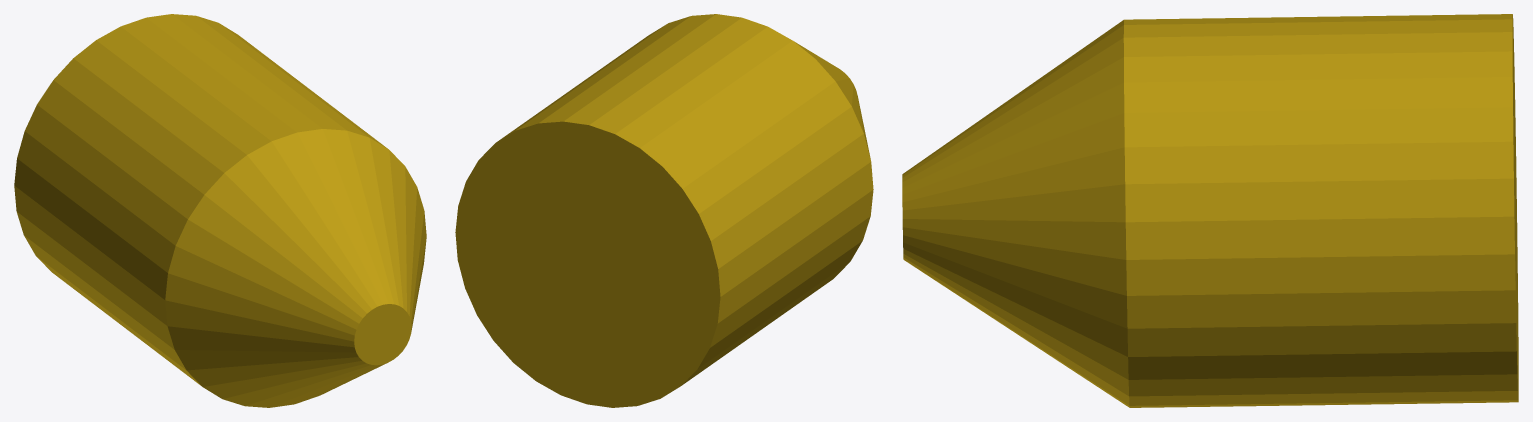
The model's file is  Bullet.fbx.
3 views of the same model, side by side, from view 1: azimuth 30°, elevation 25°; view 2: azimuth 150°, elevation 25°; view 3: azimuth 270°, elevation 25° (orthographic). The views are drawn at different scales.
Parts seen in each view (by area): view 1: Bullet; view 2: Bullet; view 3: Bullet.
Part boxes in pixels (x1,y1,x2,y2): Bullet: (14,14,426,407); Bullet: (455,14,873,407); Bullet: (902,14,1518,407).
Size of the model in its own units: 28.08 by 28.52 by 44.52.
